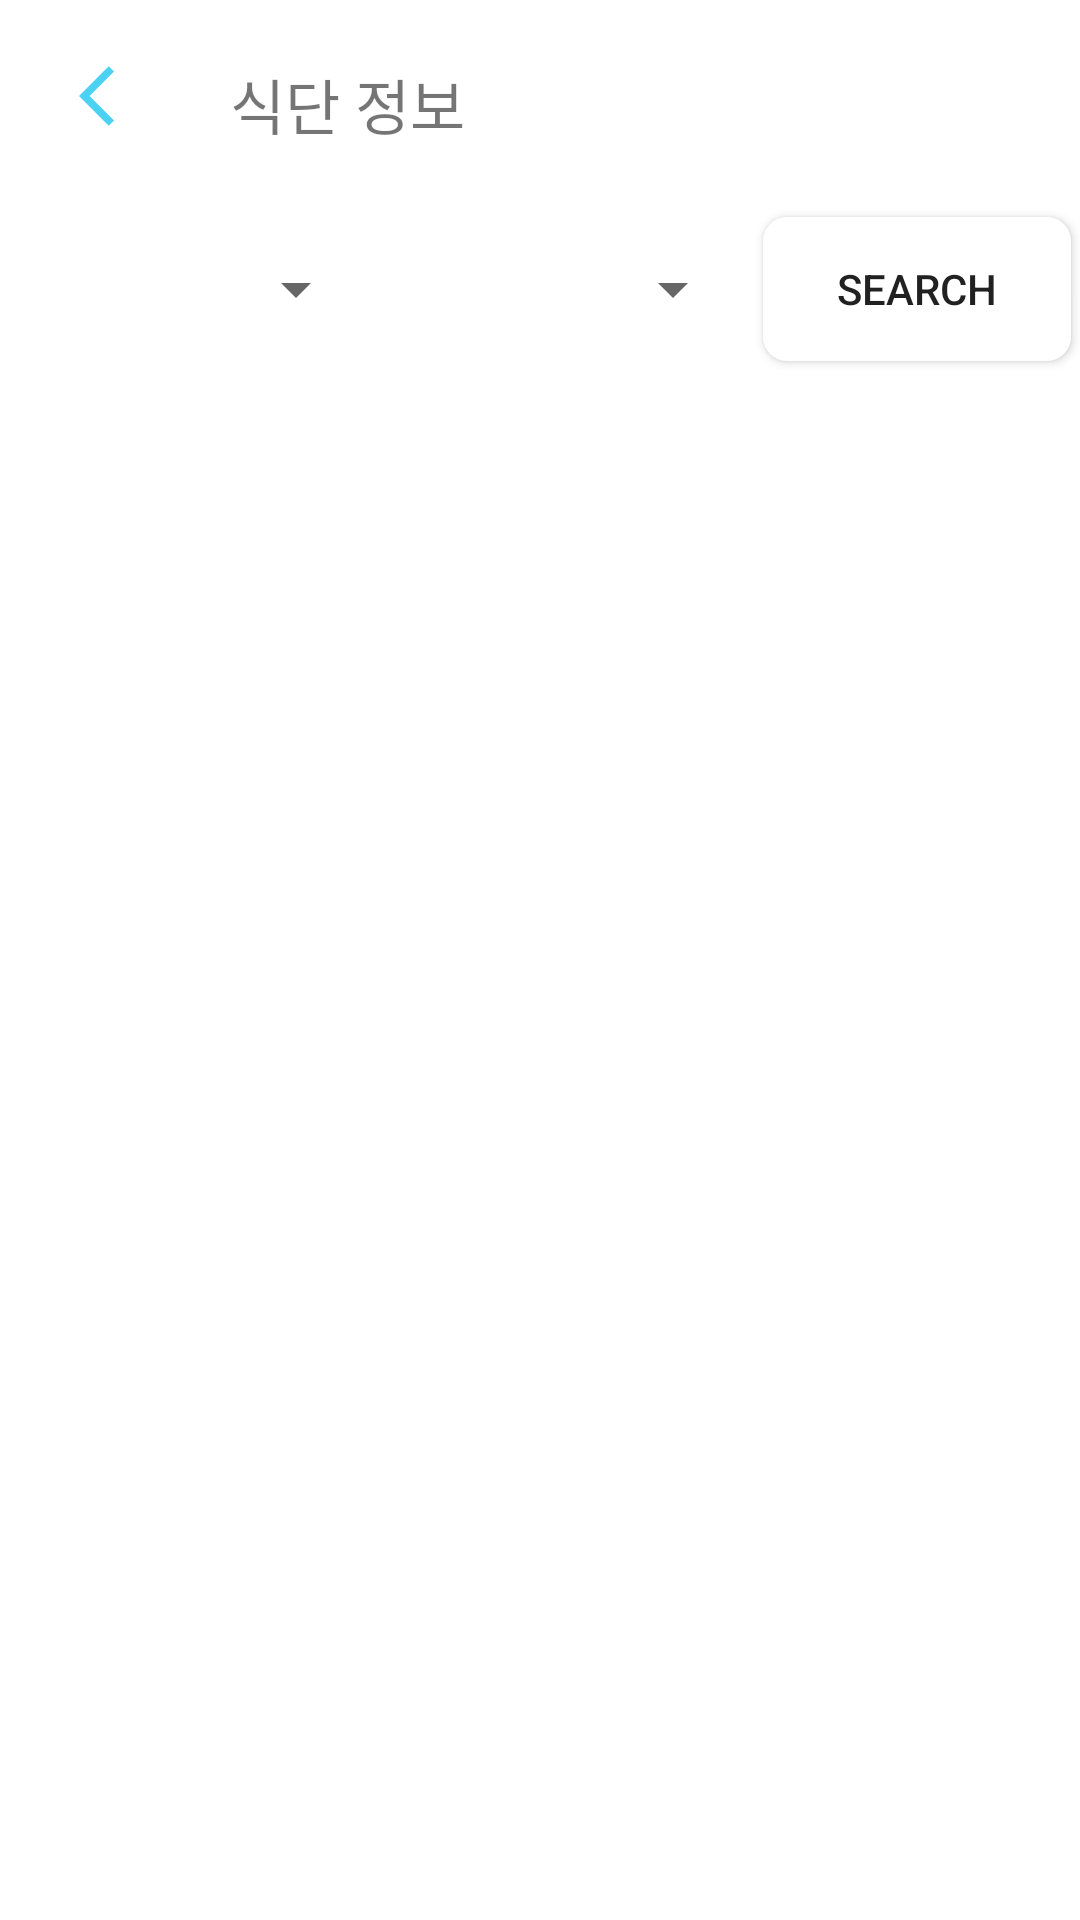

Named icons in this screenshot (1080px x 1920px) and their centers, (x,y):
back: (96,96)
